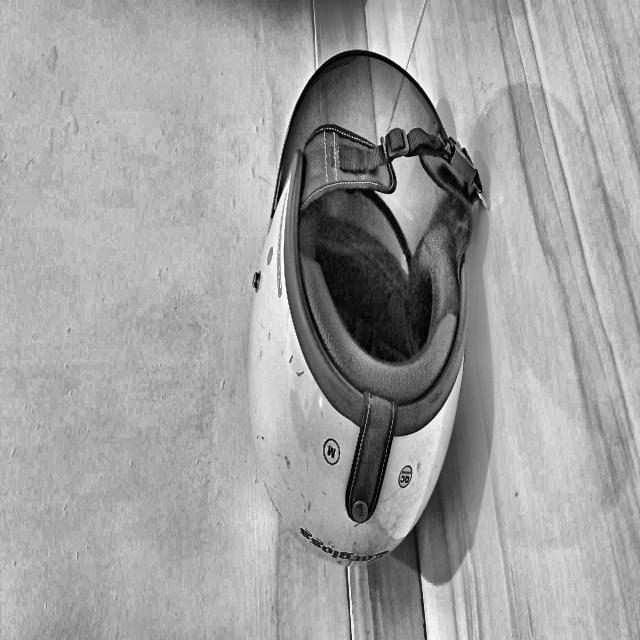Helmet: (224, 40, 504, 560)
